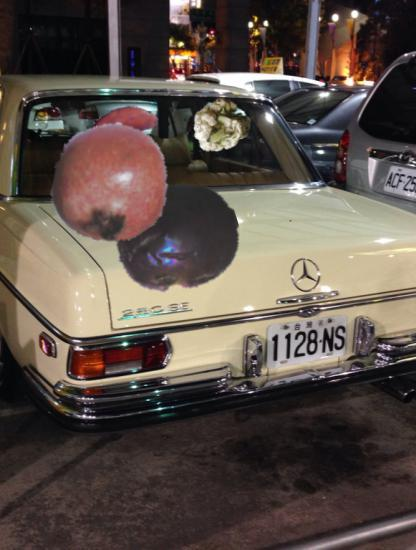Banana: (67, 99, 170, 202)
Cauliflower: (192, 94, 252, 154)
Passion: (113, 175, 240, 302)
Pomegranate: (50, 122, 172, 244)
